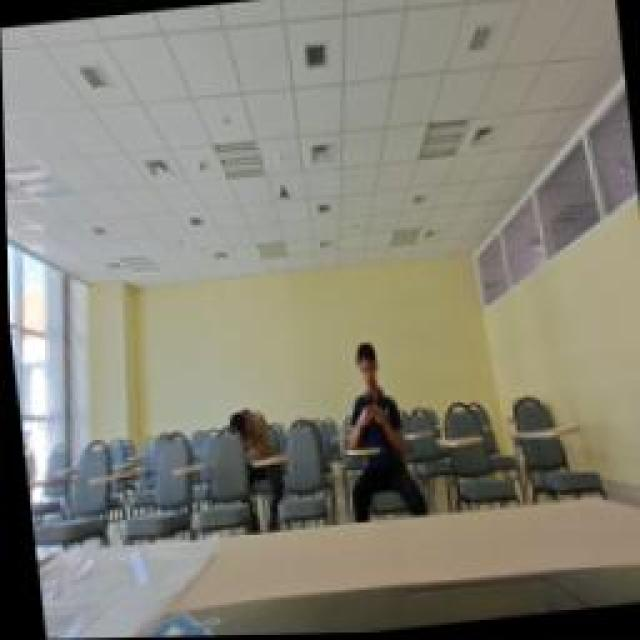phone: (335, 337, 400, 455)
sleep: (220, 400, 270, 465)
